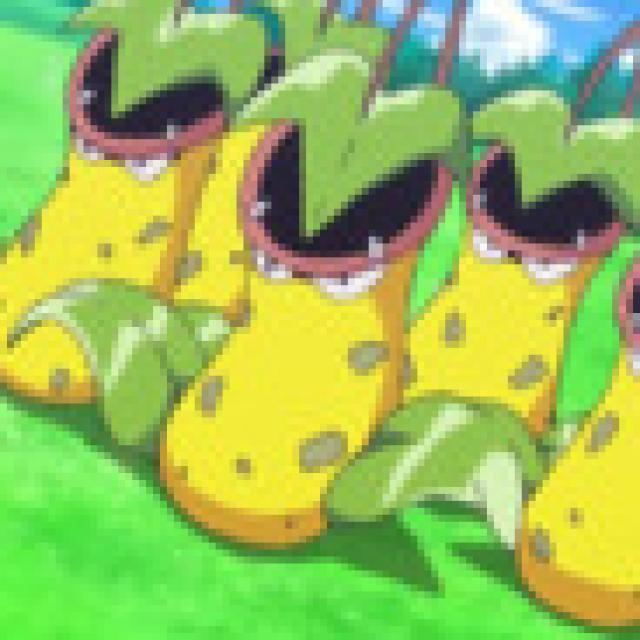Victreebel: (168, 94, 478, 534), (5, 8, 220, 412), (430, 93, 622, 429)
